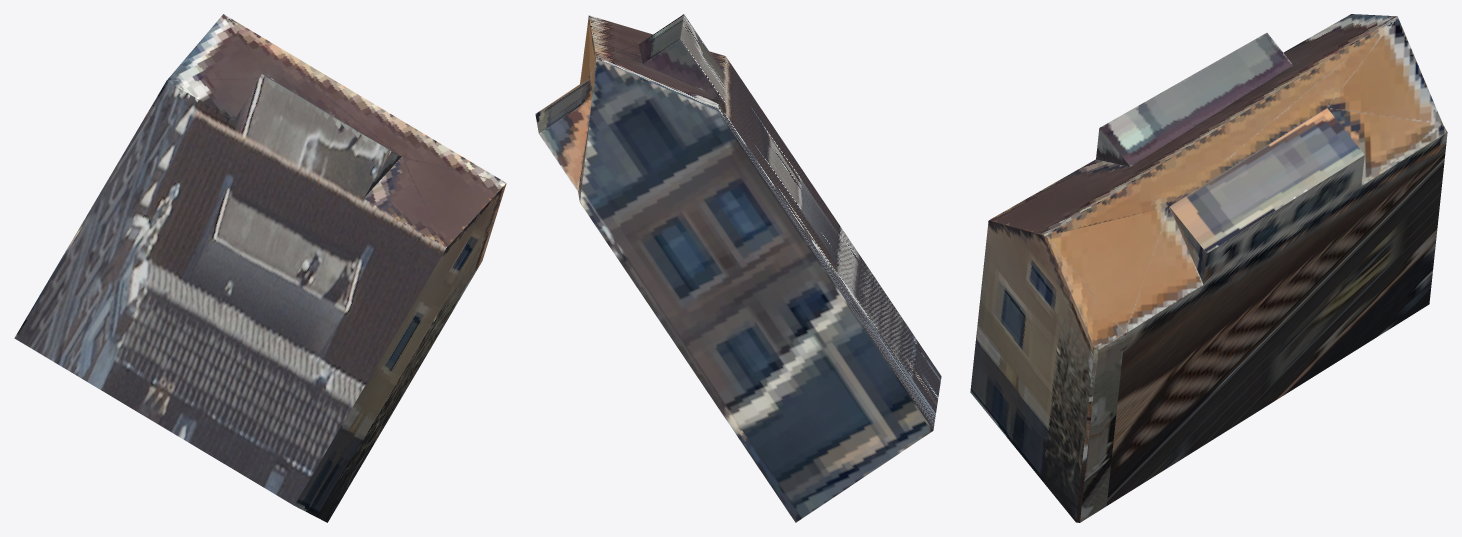
3 views of the same model, side by side, from view 1: azimuth 30°, elevation 25°; view 2: azimuth 150°, elevation 25°; view 3: azimuth 270°, elevation 25° (orthographic). The views are drawn at different scales.
Parts seen in each view (by area): view 1: BAG_0599100010033192 (×4); view 2: BAG_0599100010033192 (×5); view 3: BAG_0599100010033192 (×6).
Boxes of the visible parts, <box> form: BAG_0599100010033192 (×4): <box>14,14,506,522</box>; BAG_0599100010033192 (×5): <box>535,14,941,522</box>; BAG_0599100010033192 (×6): <box>970,14,1447,522</box>.
Bounding box in the file's own units: 13.99 × 14.48 × 12.03.
1 material, 1 textured.
